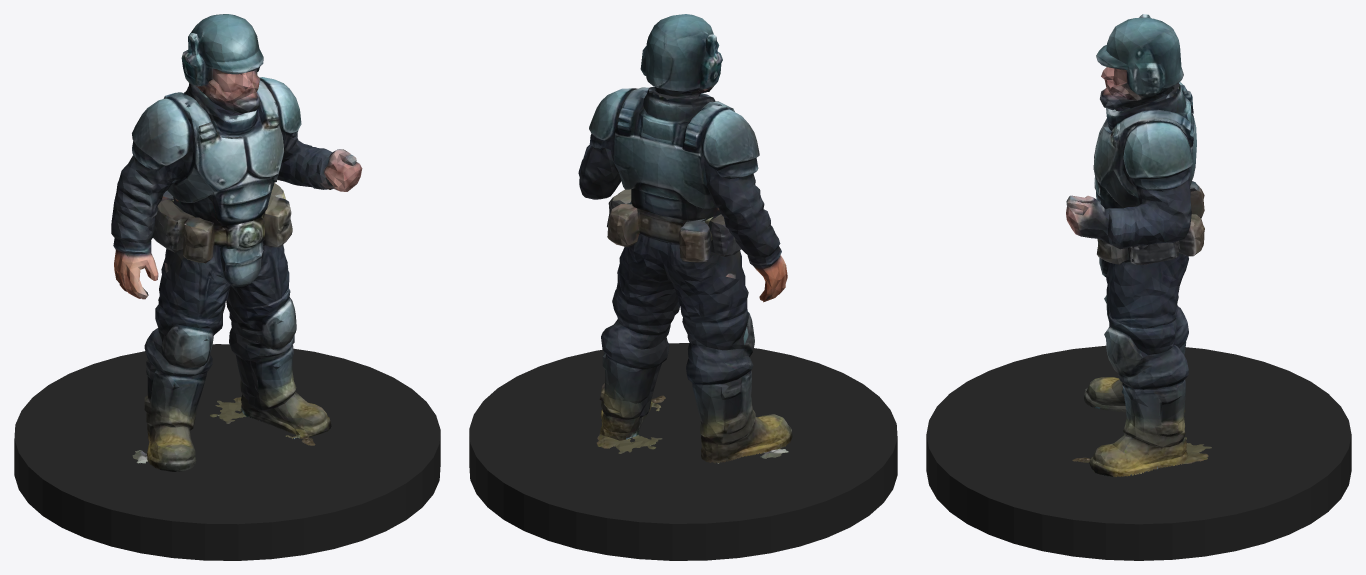
The model's file is knight.glb.
3 views of the same model, side by side, from view 1: azimuth 30°, elevation 25°; view 2: azimuth 150°, elevation 25°; view 3: azimuth 270°, elevation 25° (orthographic).
Visible parts, largest first — view 1: base, figure; view 2: base, figure; view 3: base, figure.
Boxes of the visible parts, x1=… form: base: x1=14, y1=344, x2=440, y2=560; figure: x1=111, y1=14, x2=362, y2=471; base: x1=469, y1=343, x2=897, y2=560; figure: x1=578, y1=14, x2=792, y2=463; base: x1=926, y1=345, x2=1351, y2=560; figure: x1=1066, y1=14, x2=1211, y2=476.
Bounding box in the file's own units: 1.26 × 1.47 × 1.26.
2 materials, 1 textured.
